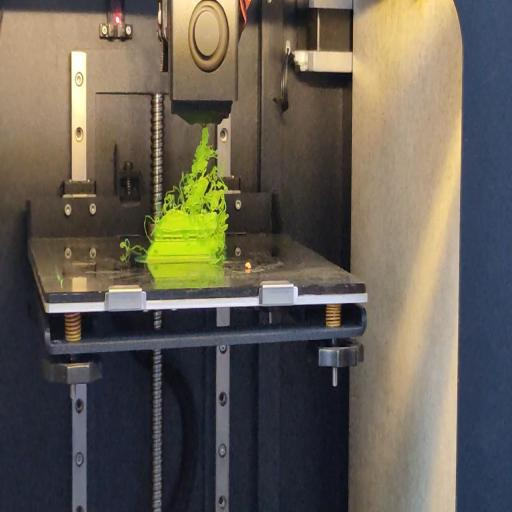spaghetti: (158, 125, 228, 219), (118, 238, 146, 256), (142, 211, 156, 245), (218, 221, 228, 260)
